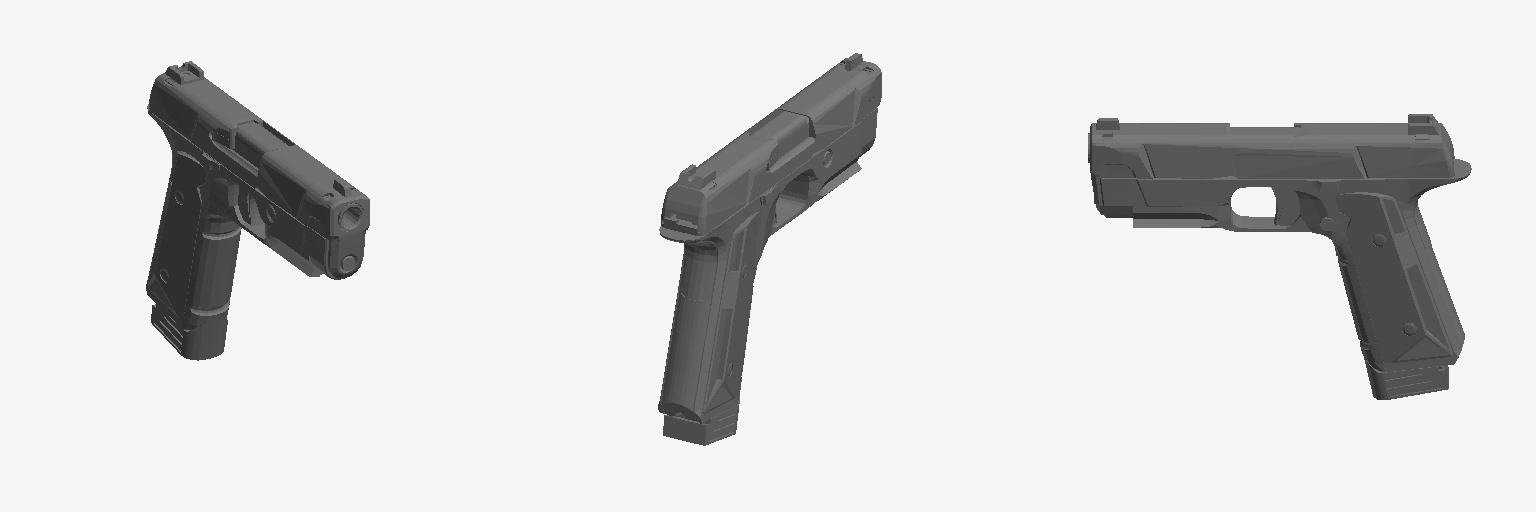
The model's file is handgun2.obj.
3 renders of one model, left to right at view 1: azimuth 30°, elevation 25°; view 2: azimuth 150°, elevation 25°; view 3: azimuth 270°, elevation 25°, orthographic.
Visible parts, largest first — view 1: Pistol_Body_low, Magazine_low; view 2: Pistol_Body_low, Magazine_low; view 3: Pistol_Body_low, Magazine_low.
Boxes of the visible parts, x1=… form: Pistol_Body_low: x1=146, y1=61, x2=369, y2=330; Magazine_low: x1=151, y1=149, x2=234, y2=360; Pistol_Body_low: x1=658, y1=53, x2=881, y2=422; Magazine_low: x1=663, y1=396, x2=739, y2=445; Pistol_Body_low: x1=1088, y1=114, x2=1471, y2=372; Magazine_low: x1=1364, y1=358, x2=1448, y2=399.
Bounding box in the file's own units: 5.11 × 23.08 × 29.31.